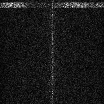wifi: (1, 1, 104, 7)
